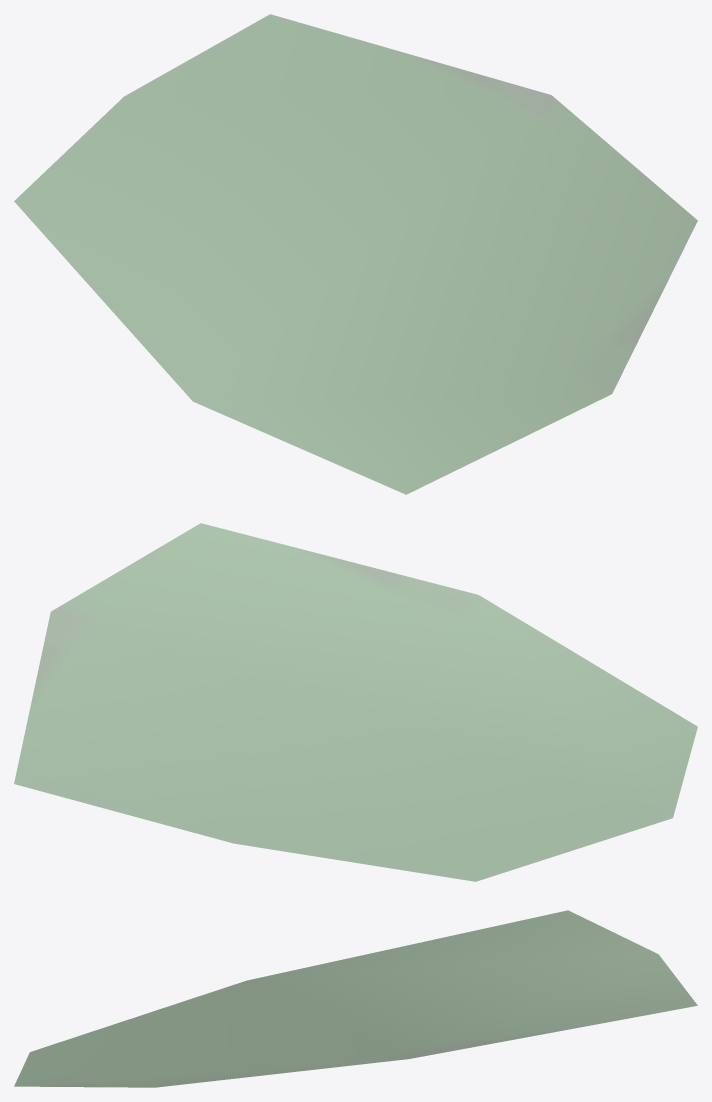
Rendered from TROLLHOLE02_HOLECAP63.fbx.
The picture shows the model from 3 angles, top to bottom: view 1: azimuth 30°, elevation 25°; view 2: azimuth 150°, elevation 25°; view 3: azimuth 270°, elevation 25°; orthographic projection. The views are drawn at different scales.
Visible parts, largest first — view 1: TROLLHOLE02_HOLECAP63; view 2: TROLLHOLE02_HOLECAP63; view 3: TROLLHOLE02_HOLECAP63.
Boxes of the visible parts, left/top/right/bottom form: TROLLHOLE02_HOLECAP63: left=14, top=14, right=697, bottom=494; TROLLHOLE02_HOLECAP63: left=14, top=523, right=697, bottom=881; TROLLHOLE02_HOLECAP63: left=14, top=910, right=697, bottom=1087.
Bounding box in the file's own units: 13398 × 4554 × 18691.
Materials: 1 (1 with a texture image).
